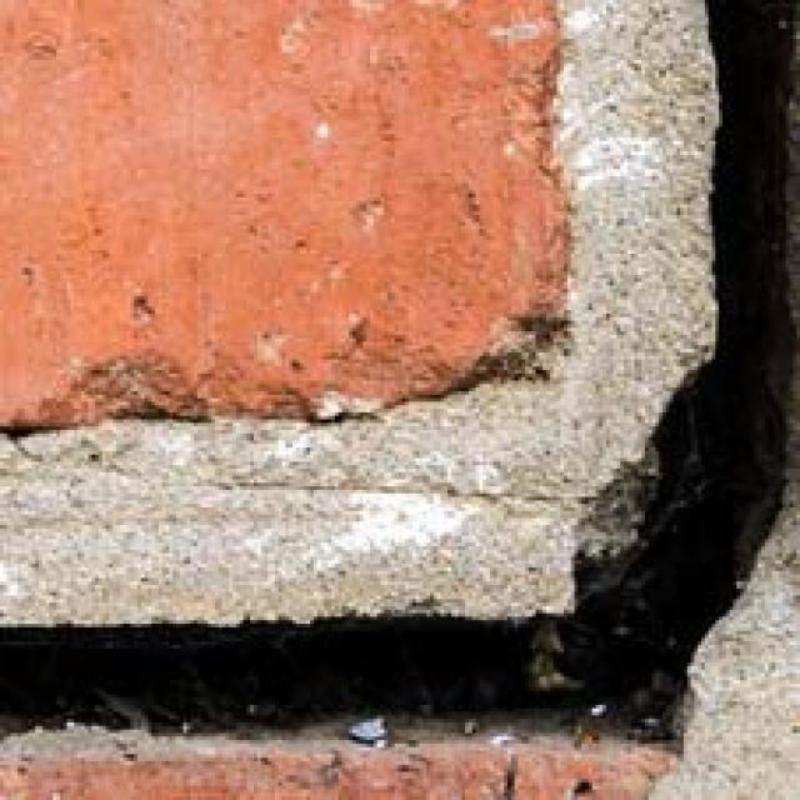crack: (1, 1, 800, 747)
